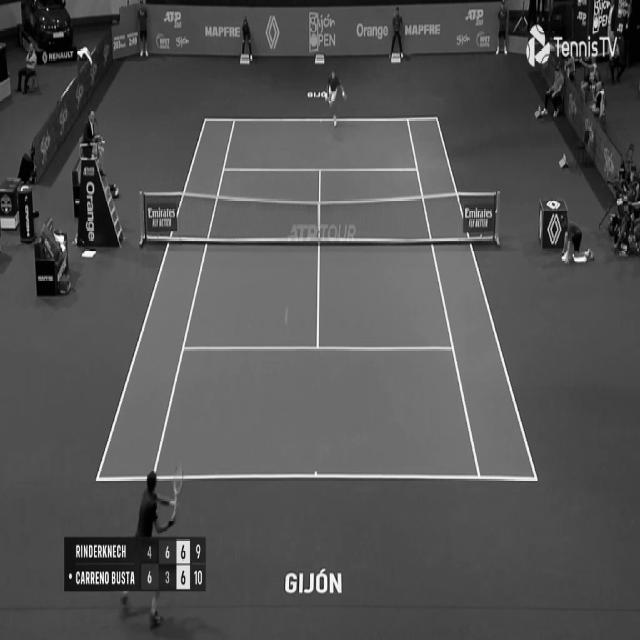tennis-court: (95, 118, 538, 480)
